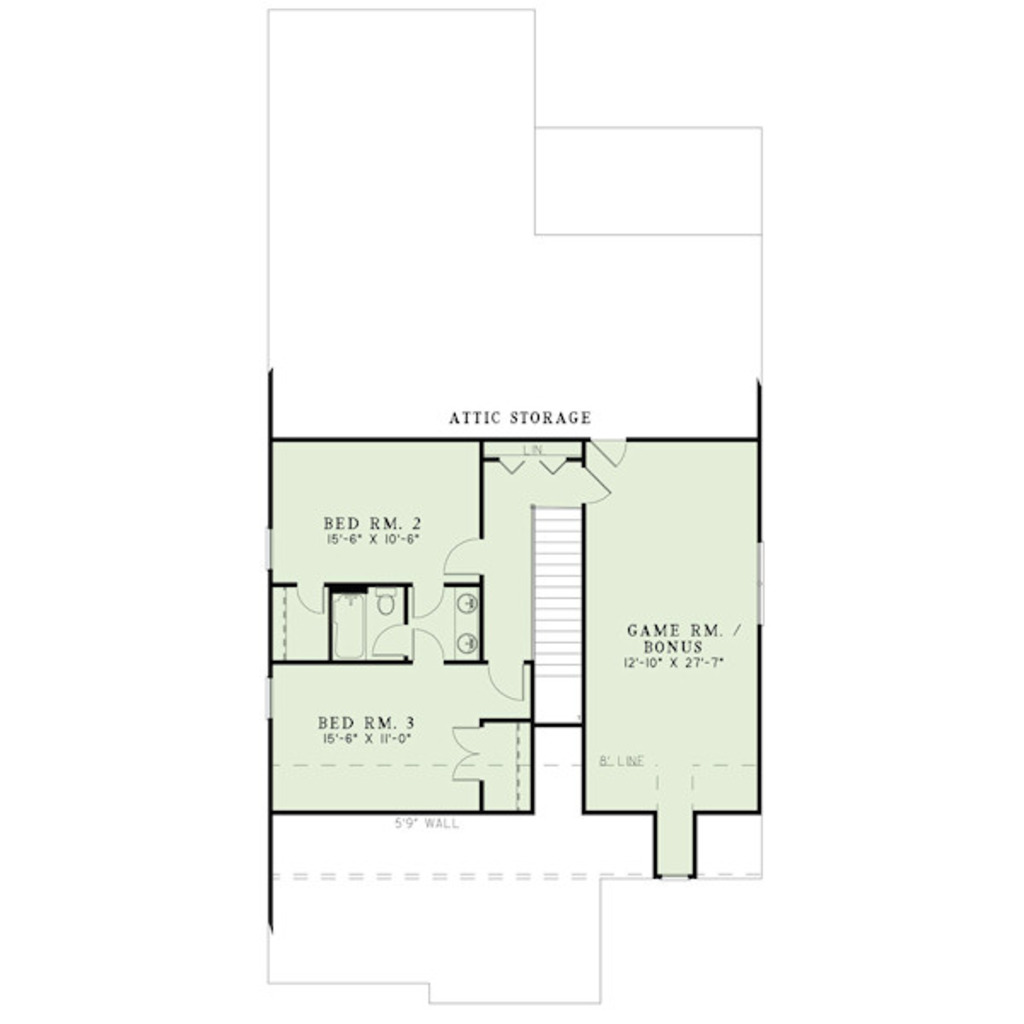door: (448, 727, 491, 785), (483, 663, 531, 709), (447, 535, 491, 581), (407, 624, 445, 671), (582, 449, 612, 508), (590, 433, 632, 471), (290, 581, 328, 620), (405, 584, 442, 624), (366, 627, 410, 658)
large_sink: (374, 584, 399, 630)
small_sink: (440, 585, 482, 665)
stairs: (531, 508, 588, 720)
tub: (331, 590, 367, 665)
window: (753, 538, 767, 624), (264, 528, 282, 584), (263, 670, 275, 722)
